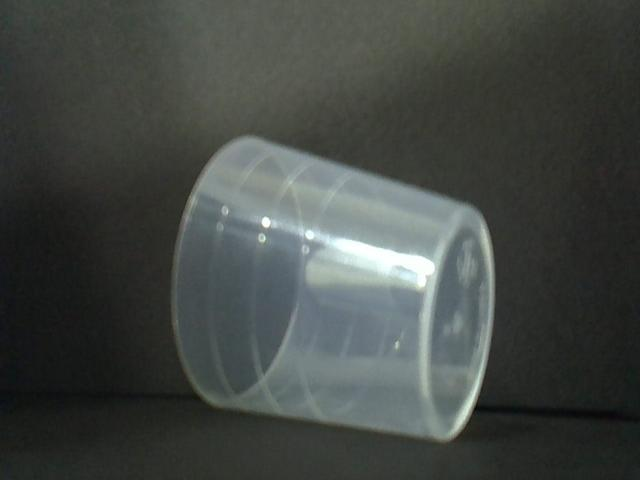cup: (166, 130, 499, 450)
